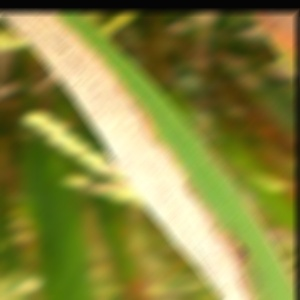Leaf_Blast: (149, 123, 278, 300)
